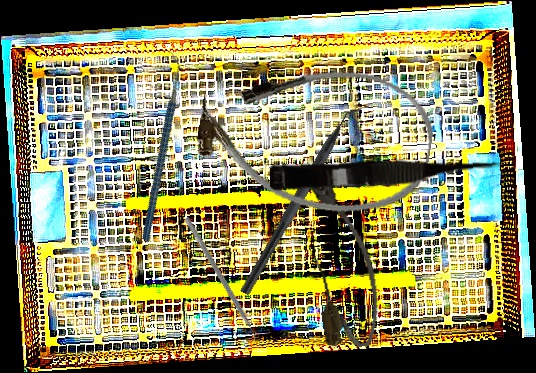Cannula: (189, 48, 441, 226), (300, 172, 386, 353)
Chopper: (81, 51, 237, 242), (240, 94, 371, 303)
Micro Scissor: (269, 152, 505, 196)
Spatula Surgical: (178, 216, 263, 346)
